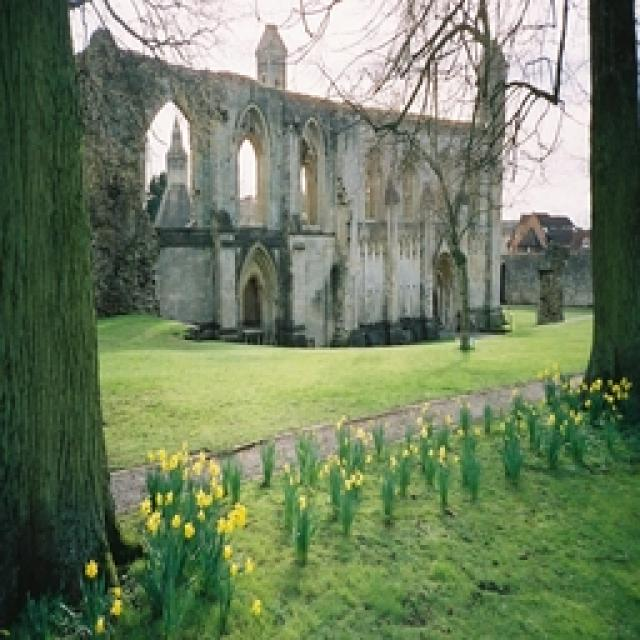Abbey: (151, 98, 372, 348)
